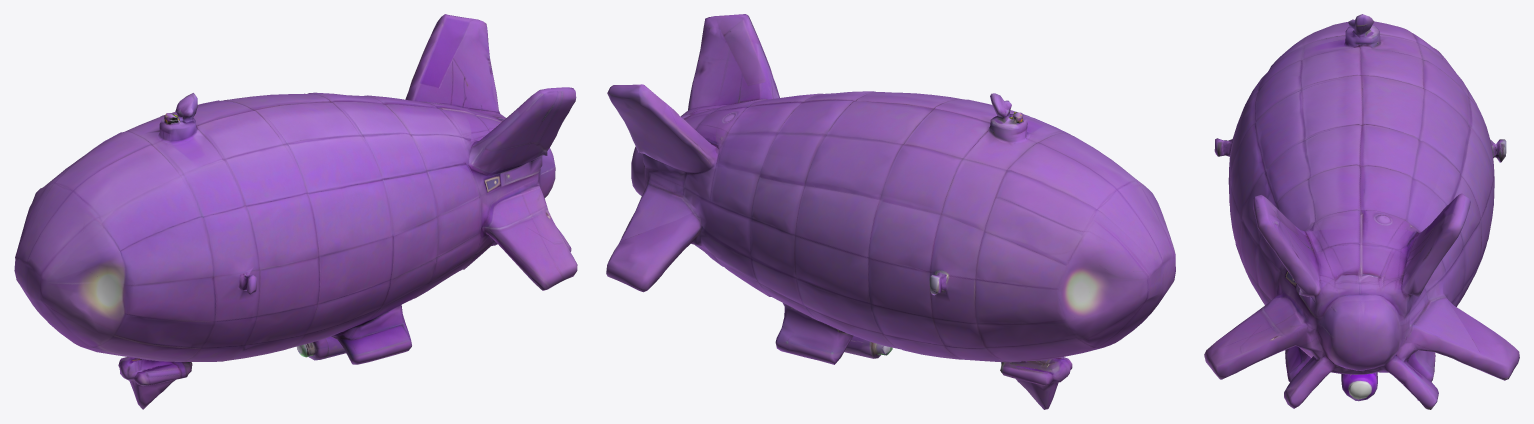
Rendered from A_3D_low_poly_model_o_1209034443_texture.fbx.
3 renders of one model, left to right at view 1: azimuth 30°, elevation 25°; view 2: azimuth 150°, elevation 25°; view 3: azimuth 270°, elevation 25°, orthographic.
Visible parts, largest first — view 1: Mesh_0; view 2: Mesh_0; view 3: Mesh_0.
Part boxes in pixels (left/top/right/bottom): Mesh_0: left=14, top=14, right=577, bottom=409; Mesh_0: left=606, top=14, right=1175, bottom=409; Mesh_0: left=1204, top=14, right=1519, bottom=409.
Bounding box in the file's own units: 201 × 112 × 104.
Materials: 1 (1 with a texture image).
